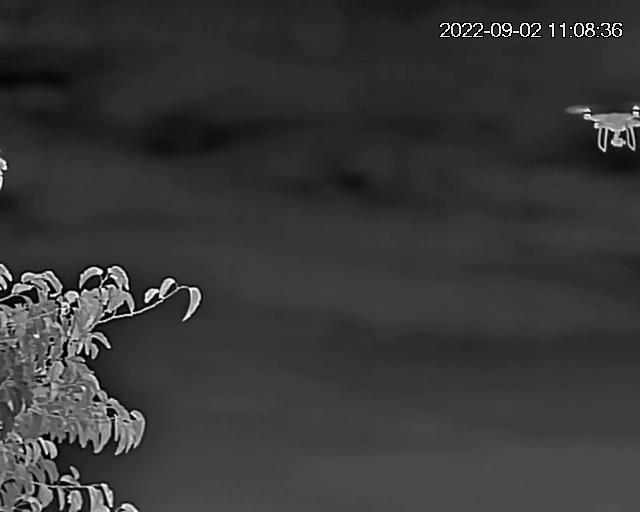DJI-Phantom: (568, 105, 640, 155)
